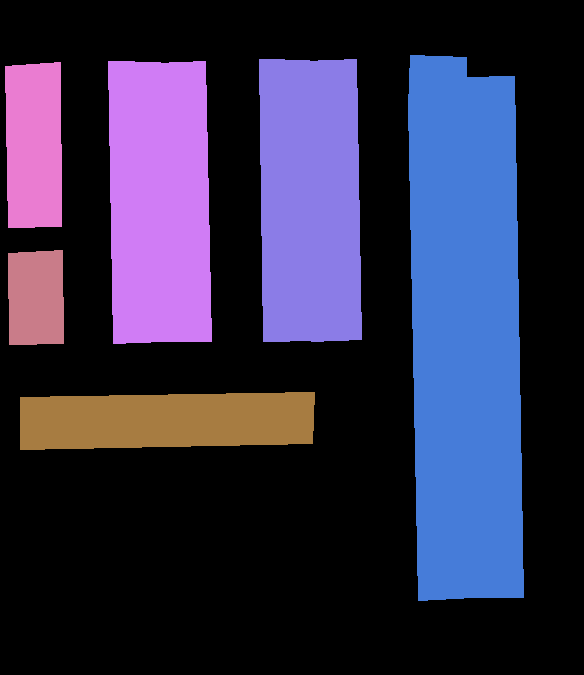parkingspot: (408, 55, 473, 600), (462, 76, 523, 597), (20, 392, 314, 449), (305, 59, 361, 341), (259, 59, 315, 341), (108, 61, 163, 343), (156, 61, 211, 341), (5, 62, 61, 227), (8, 250, 63, 344)
